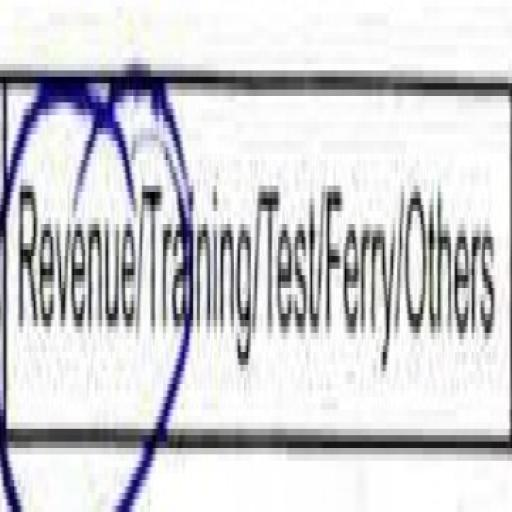check: (2, 18, 136, 512), (140, 18, 250, 460)
